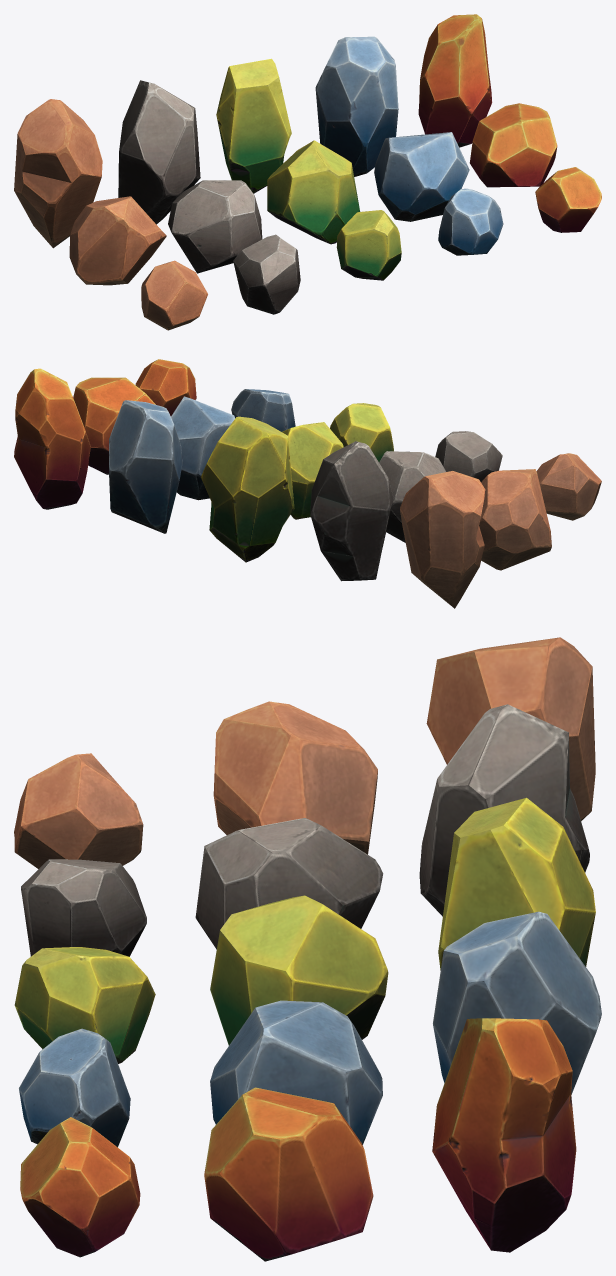
The model's file is Rocks.glb.
3 views of the same model, one above another, from view 1: azimuth 30°, elevation 25°; view 2: azimuth 150°, elevation 25°; view 3: azimuth 270°, elevation 25° (orthographic). The views are drawn at different scales.
Parts seen in each view (by area): view 1: L_Rock_01_0, L_Rock_04_3, L_Rock_02_1, L_Rock_05_4, L_Rock_03_2, M_Rock_03_7, M_Rock_04_8, M_Rock_02_6, M_Rock_01_5, M_Rock_05_9, S_Rock_02_11, S_Rock_03_12 (+3 smaller); view 2: L_Rock_03_2, L_Rock_02_1, L_Rock_01_0, L_Rock_05_4, L_Rock_04_3, M_Rock_01_5, M_Rock_04_8, M_Rock_05_9, S_Rock_01_10, M_Rock_03_7, M_Rock_02_6, S_Rock_02_11 (+3 smaller); view 3: L_Rock_05_4, M_Rock_05_9, M_Rock_01_5, M_Rock_03_7, L_Rock_04_3, L_Rock_03_2, L_Rock_02_1, L_Rock_01_0, M_Rock_04_8, M_Rock_02_6, S_Rock_05_14, S_Rock_03_12 (+3 smaller).
Boxes of the visible parts, box(x1,y1,x2,y2) form: L_Rock_01_0: box(14, 99, 102, 248); L_Rock_04_3: box(315, 36, 398, 176); L_Rock_02_1: box(118, 80, 200, 224); L_Rock_05_4: box(418, 14, 492, 147); L_Rock_03_2: box(216, 58, 291, 193); M_Rock_03_7: box(267, 140, 360, 244); M_Rock_04_8: box(374, 132, 469, 221); M_Rock_02_6: box(168, 180, 262, 273); M_Rock_01_5: box(69, 196, 166, 285); M_Rock_05_9: box(469, 103, 557, 187); S_Rock_02_11: box(233, 234, 300, 314); S_Rock_03_12: box(336, 210, 401, 280); L_Rock_03_2: box(201, 416, 294, 562); L_Rock_02_1: box(310, 441, 393, 581); L_Rock_01_0: box(400, 471, 485, 608); L_Rock_05_4: box(14, 368, 90, 509); L_Rock_04_3: box(109, 400, 182, 533); M_Rock_01_5: box(479, 469, 551, 570); M_Rock_04_8: box(171, 396, 234, 500); M_Rock_05_9: box(73, 377, 155, 474); S_Rock_01_10: box(536, 453, 601, 520); M_Rock_03_7: box(282, 422, 343, 519); M_Rock_02_6: box(379, 451, 445, 542); S_Rock_02_11: box(435, 431, 502, 481); L_Rock_05_4: box(432, 1018, 576, 1252); M_Rock_05_9: box(204, 1087, 373, 1261); M_Rock_01_5: box(213, 701, 377, 854); M_Rock_03_7: box(210, 895, 388, 1045); L_Rock_04_3: box(433, 911, 601, 1094); L_Rock_03_2: box(438, 797, 595, 970); L_Rock_02_1: box(419, 704, 589, 916); L_Rock_01_0: box(426, 637, 595, 820); M_Rock_04_8: box(210, 1000, 382, 1144); M_Rock_02_6: box(195, 818, 383, 949); S_Rock_05_14: box(20, 1117, 140, 1257); S_Rock_03_12: box(14, 947, 155, 1063).
Bounding box in the file's own units: 9.56 × 2.73 × 5.43.
Materials: 15 (15 with a texture image).
